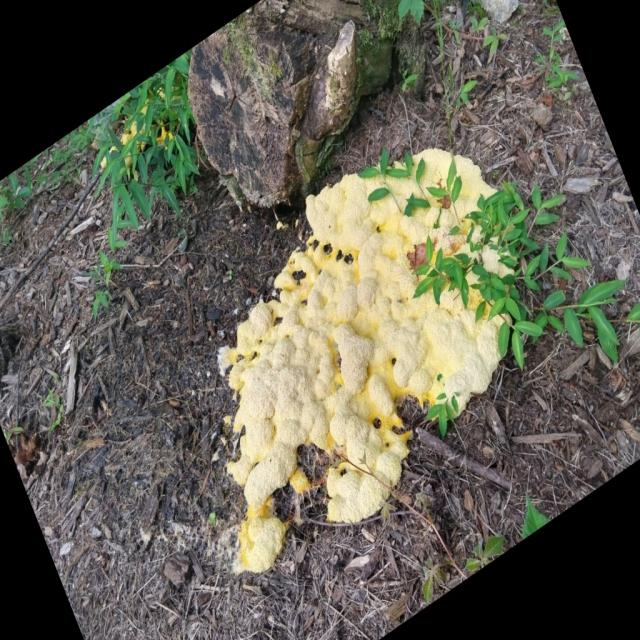Dog_vomit_slime_mold: (188, 153, 524, 572)
